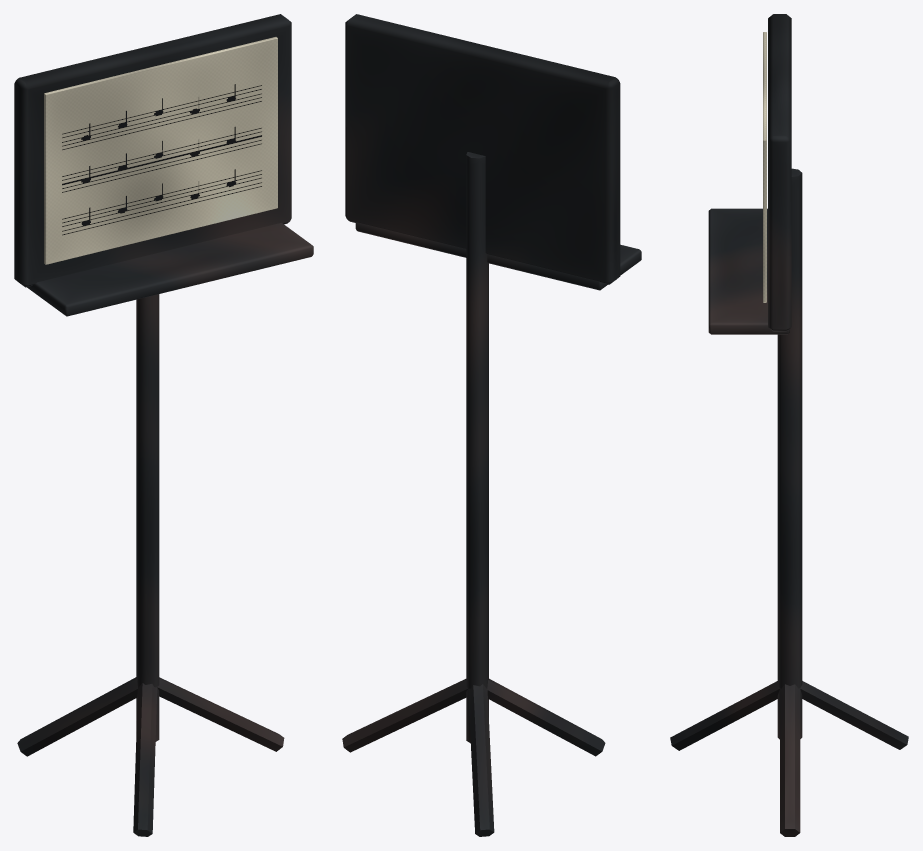
Rendered from Furn_Music_SheetStand.fbx.
The picture shows the model from 3 angles, left to right: view 1: azimuth 30°, elevation 25°; view 2: azimuth 150°, elevation 25°; view 3: azimuth 270°, elevation 25°; orthographic projection. The views are drawn at different scales.
Parts seen in each view (by area): view 1: Furn_Music_SheetStand; view 2: Furn_Music_SheetStand; view 3: Furn_Music_SheetStand.
Boxes of the visible parts, x1=… form: Furn_Music_SheetStand: x1=14, y1=14, x2=313, y2=836; Furn_Music_SheetStand: x1=342, y1=14, x2=641, y2=836; Furn_Music_SheetStand: x1=670, y1=14, x2=908, y2=836.
Bounding box in the file's own units: 0.5 × 1.3 × 0.4.
2 materials, 2 textured.
